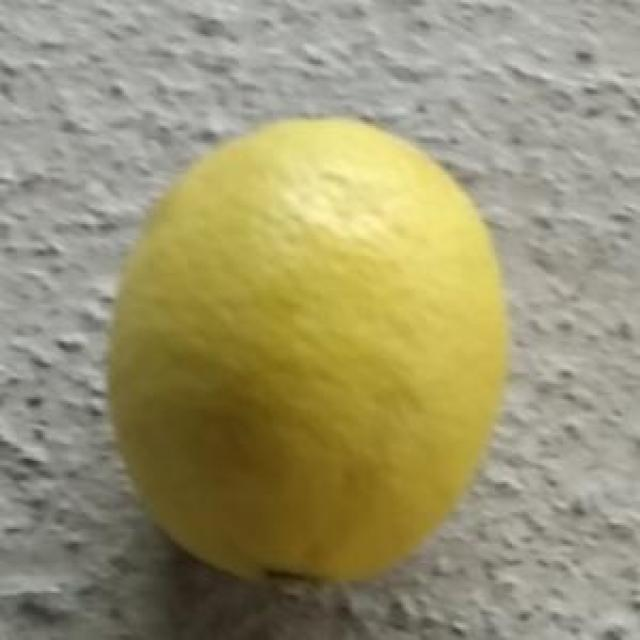lemon: (112, 108, 510, 593)
